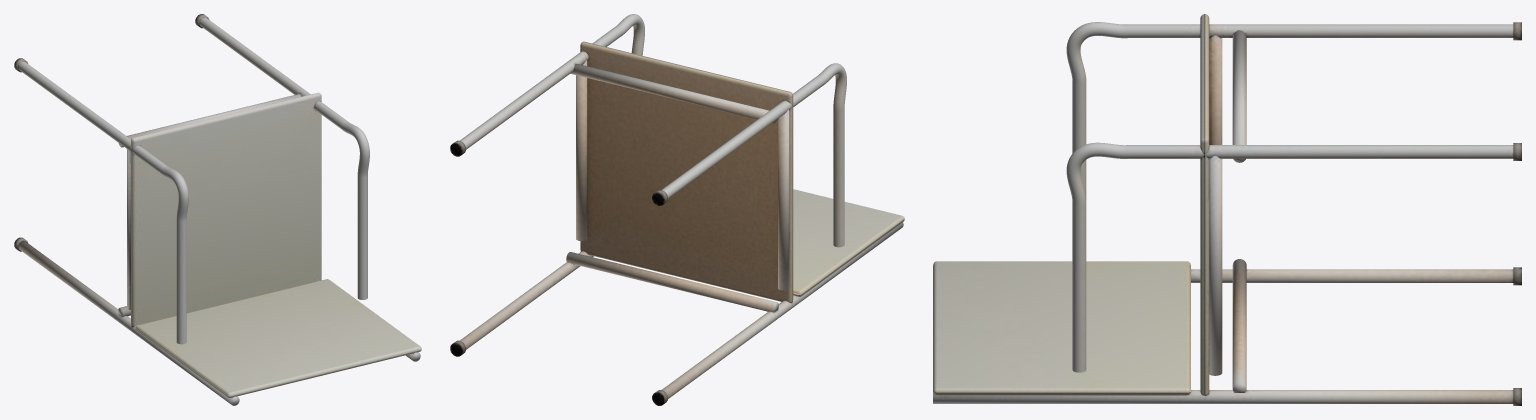
The model's file is C2_chair_final_4.obj.
The picture shows the model from 3 angles, left to right: view 1: azimuth 30°, elevation 25°; view 2: azimuth 150°, elevation 25°; view 3: azimuth 270°, elevation 25°; orthographic projection. The views are drawn at different scales.
Visible parts, largest first — view 1: C2_chair_final_4.001; view 2: C2_chair_final_4.001; view 3: C2_chair_final_4.001.
Boxes of the visible parts, x1,y1,x2,y2 form: C2_chair_final_4.001: (14, 14, 421, 405); C2_chair_final_4.001: (450, 14, 904, 405); C2_chair_final_4.001: (933, 14, 1521, 405).
Bounding box in the file's own units: 0.44 × 0.426 × 0.845.
1 material, 1 textured.
